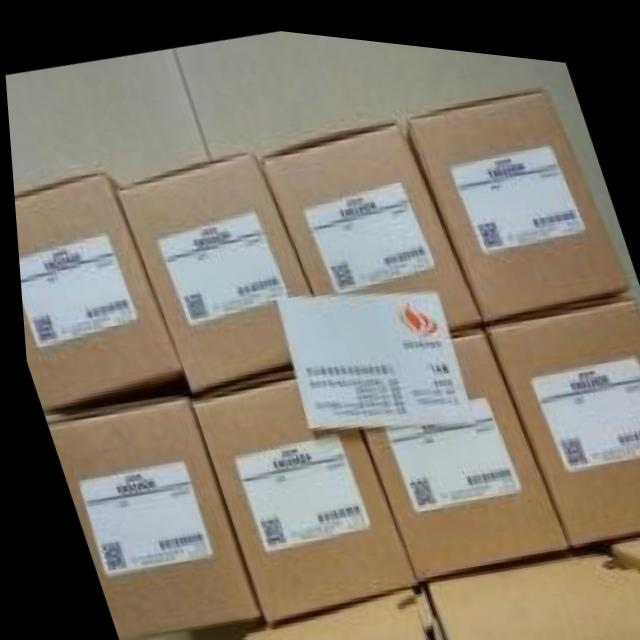box: (186, 358, 408, 622), (354, 313, 563, 576), (37, 394, 254, 640), (403, 73, 628, 310), (114, 144, 309, 391), (257, 112, 477, 319), (11, 169, 186, 412), (477, 273, 640, 532), (408, 527, 640, 640), (227, 576, 437, 640), (591, 520, 640, 552)
